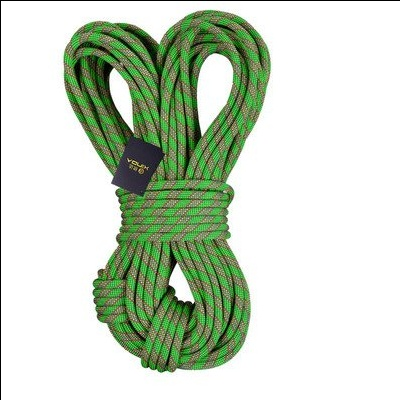9/可回收垃圾/绳子: (62, 10, 273, 374)
